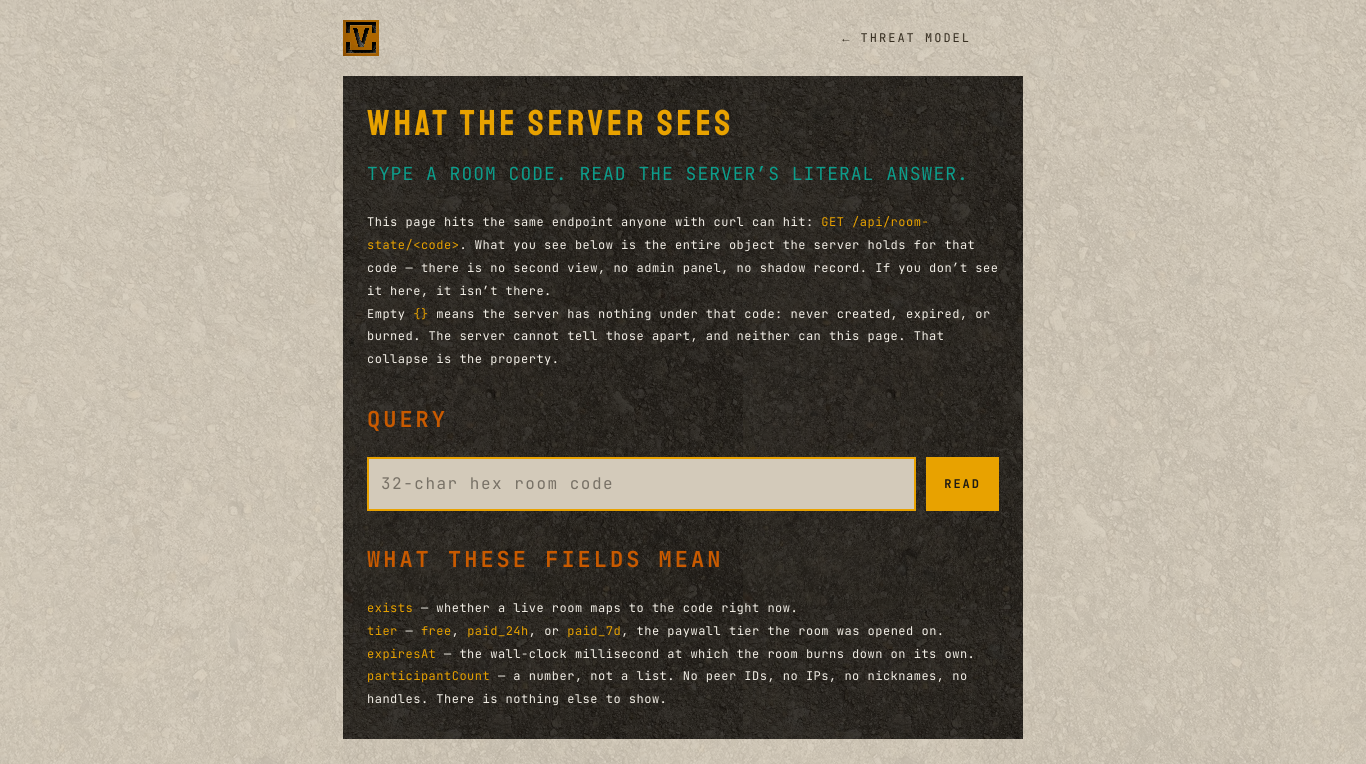
Test: ServerStateProofPage › renders the JSON snapshot returned by the server with public tier names
In the field with test id "server-state-input": (642, 484) x1=367 y1=457 x2=916 y2=511, type "0123456789abcdef0123456789abcdef"
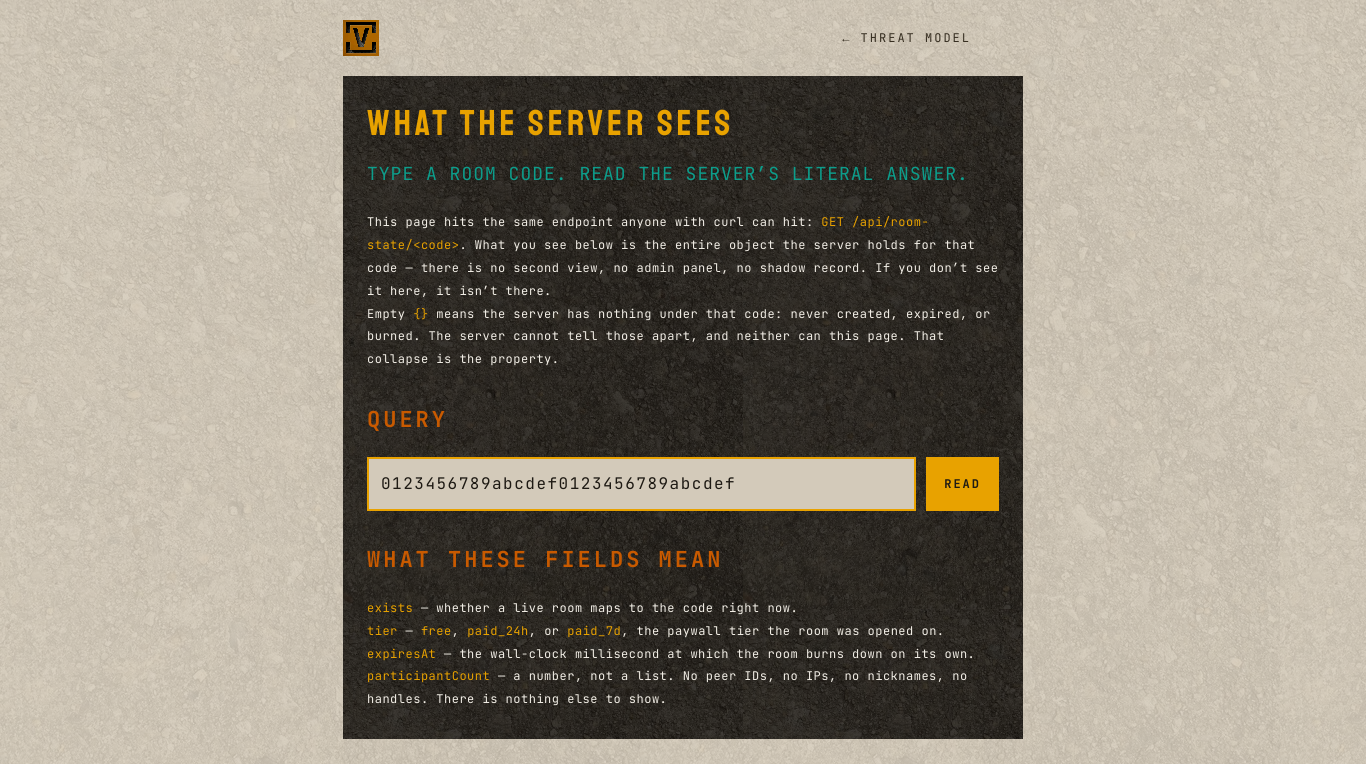
Click the button with test id "server-state-submit": (963, 484) x1=926 y1=457 x2=999 y2=511
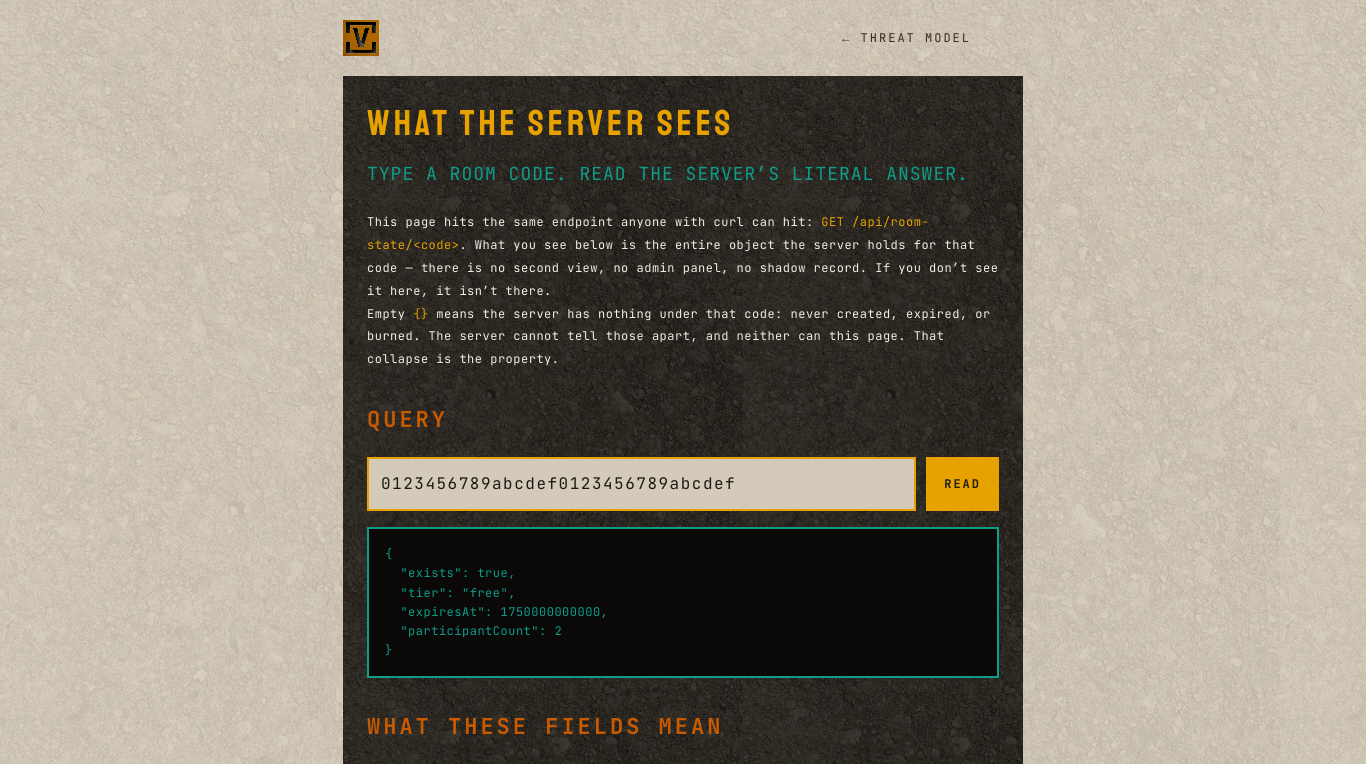
Now the text with test id "server-state-json" is shown, box x1=367 y1=527 x2=999 y2=678
Now the text with test id "server-state-json" shows "\"exists\": true", box x1=385 y1=546 x2=608 y2=658
Now the text with test id "server-state-json" shows "\"tier\": \"free\"", box x1=385 y1=546 x2=608 y2=658
